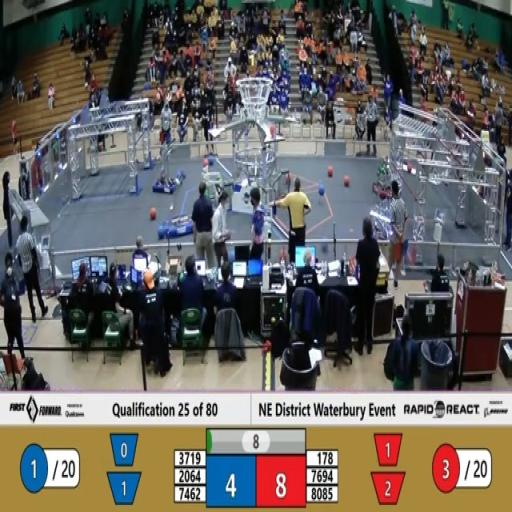robot: (166, 168, 198, 240), (152, 131, 184, 197), (201, 165, 226, 238), (370, 200, 396, 244), (372, 152, 396, 198)
